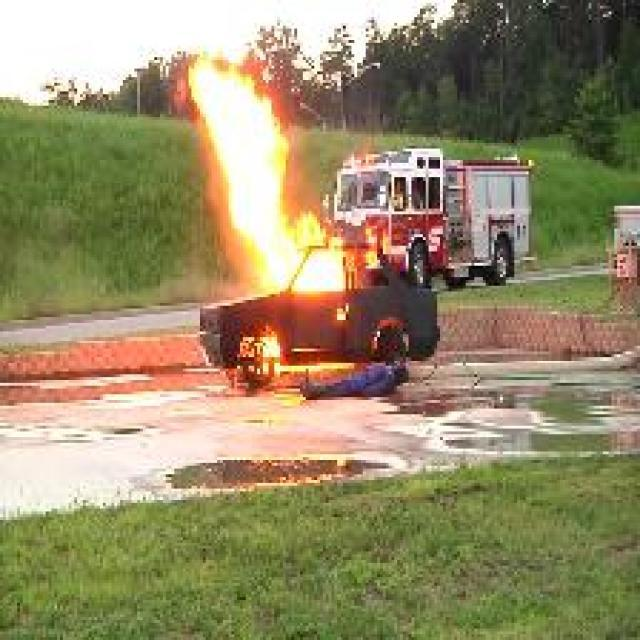Fire: (187, 55, 350, 292)
